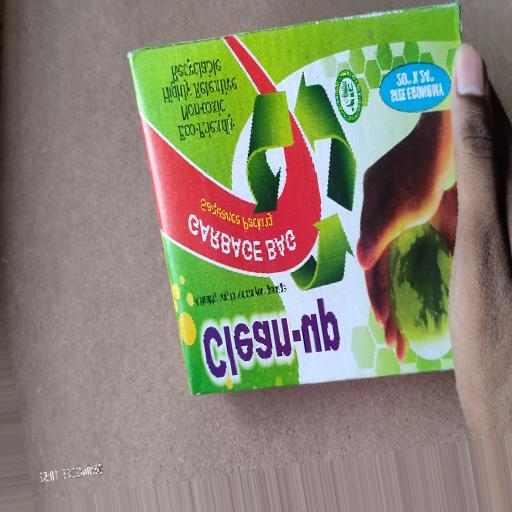CleanUp Garbage bag: (109, 2, 507, 418)
